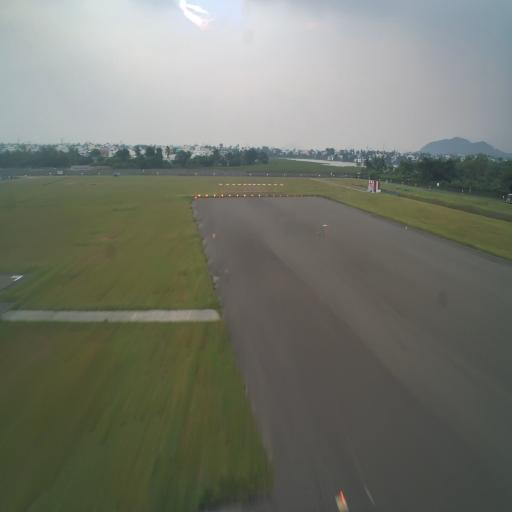off: (224, 269, 229, 275)
on: (335, 487, 349, 512), (212, 232, 216, 239), (198, 193, 201, 198), (213, 193, 216, 198), (405, 225, 408, 230), (251, 194, 254, 198), (293, 193, 296, 197), (286, 194, 289, 197), (206, 194, 208, 198), (229, 193, 231, 197), (236, 193, 238, 197), (244, 193, 246, 197), (258, 194, 260, 198), (280, 194, 282, 198), (300, 193, 302, 197), (195, 196, 197, 199), (221, 194, 223, 197), (266, 194, 268, 197), (272, 194, 274, 197)
